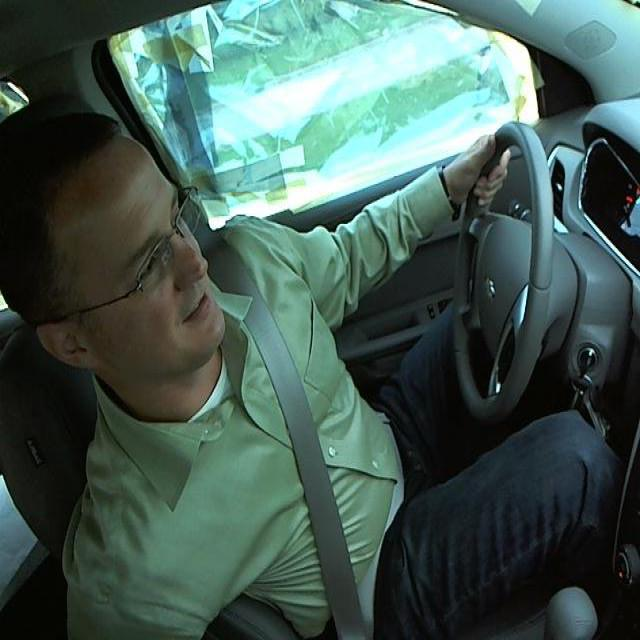seatbelt: (235, 286, 392, 638)
